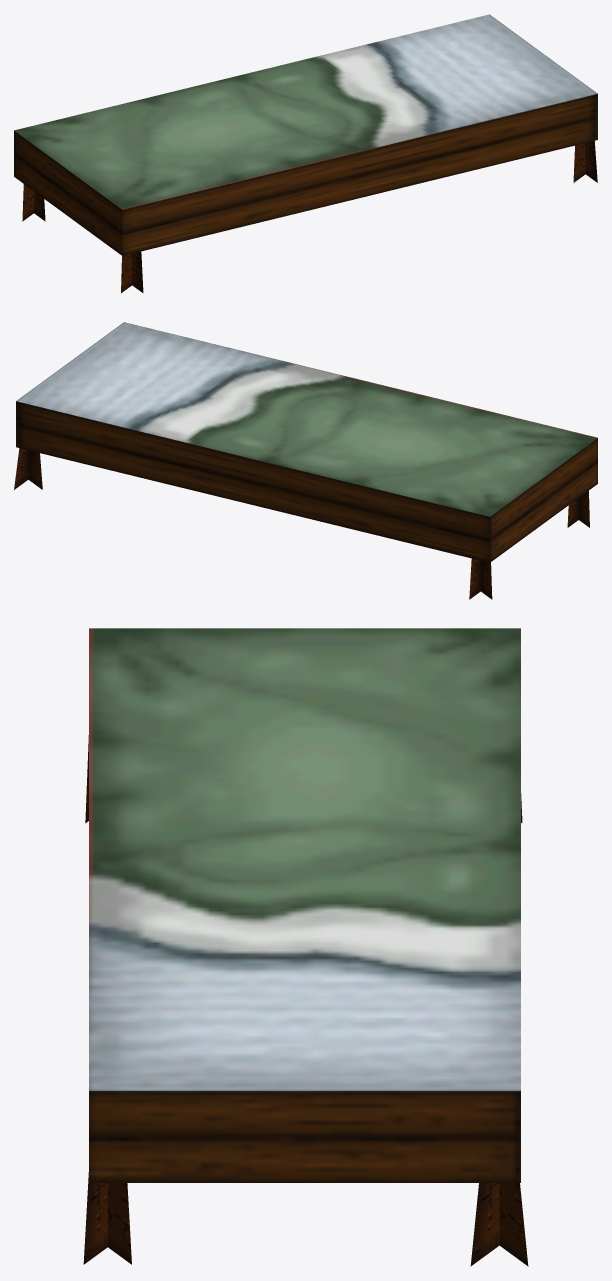
Rendered from Bett_Klein_2254.glb.
The picture shows the model from 3 angles, top to bottom: view 1: azimuth 30°, elevation 25°; view 2: azimuth 150°, elevation 25°; view 3: azimuth 270°, elevation 25°; orthographic projection. The views are drawn at different scales.
Visible parts, largest first — view 1: pPlaneShape1, pPlaneShape2, pPlaneShape4, pCylinderShape89, pCylinderShape87, pCylinderShape86; view 2: pPlaneShape1, pPlaneShape3, pPlaneShape4, pCylinderShape88, pCylinderShape86, pCylinderShape87; view 3: pPlaneShape1, pPlaneShape5, pCylinderShape88, pCylinderShape89.
Part boxes in pixels (x1,y1,x2,y2): pPlaneShape1: (14,14,597,209); pPlaneShape2: (122,94,597,255); pPlaneShape4: (14,130,122,255); pCylinderShape89: (573,141,597,182); pCylinderShape87: (121,251,143,293); pCylinderShape86: (22,184,45,221); pPlaneShape1: (16,322,597,516); pPlaneShape3: (16,401,489,562); pPlaneShape4: (490,438,597,562); pCylinderShape88: (14,448,42,489); pCylinderShape86: (469,558,492,599); pCylinderShape87: (567,490,589,527); pPlaneShape1: (89,628,520,1090); pPlaneShape5: (89,1091,520,1182); pCylinderShape88: (470,1183,528,1266); pCylinderShape89: (83,1172,131,1264).
Bounding box in the file's own units: 0.3728 × 0.0659 × 0.1514.
Materials: 9 (9 with a texture image).
